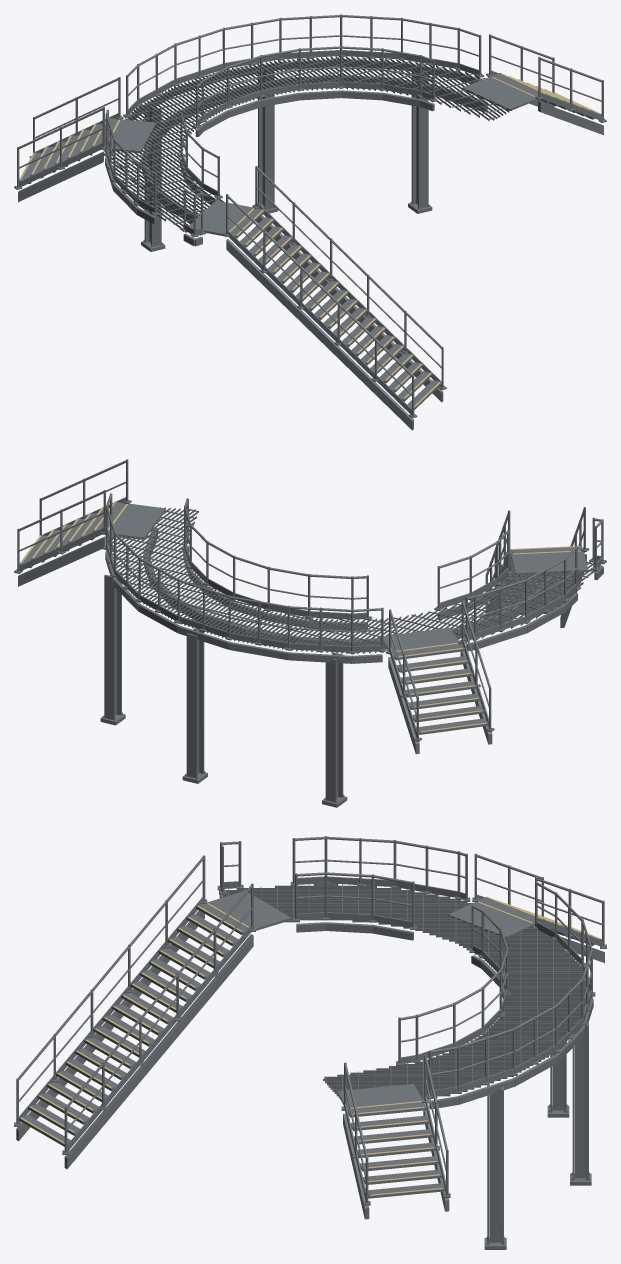
The model's file is BO_E01_OperationsDeck_LOD1.fbx.
The picture shows the model from 3 angles, top to bottom: view 1: azimuth 30°, elevation 25°; view 2: azimuth 150°, elevation 25°; view 3: azimuth 270°, elevation 25°; orthographic projection. The views are drawn at different scales.
Parts seen in each view (by area): view 1: BO_E01_OperationsDeck_LOD1; view 2: BO_E01_OperationsDeck_LOD1; view 3: BO_E01_OperationsDeck_LOD1.
Part boxes in pixels (x1=…): BO_E01_OperationsDeck_LOD1: x1=14, y1=14, x2=606, y2=430; BO_E01_OperationsDeck_LOD1: x1=14, y1=459, x2=606, y2=807; BO_E01_OperationsDeck_LOD1: x1=14, y1=836, x2=606, y2=1249.
Bounding box in the file's own units: 1320 × 494 × 1168.
